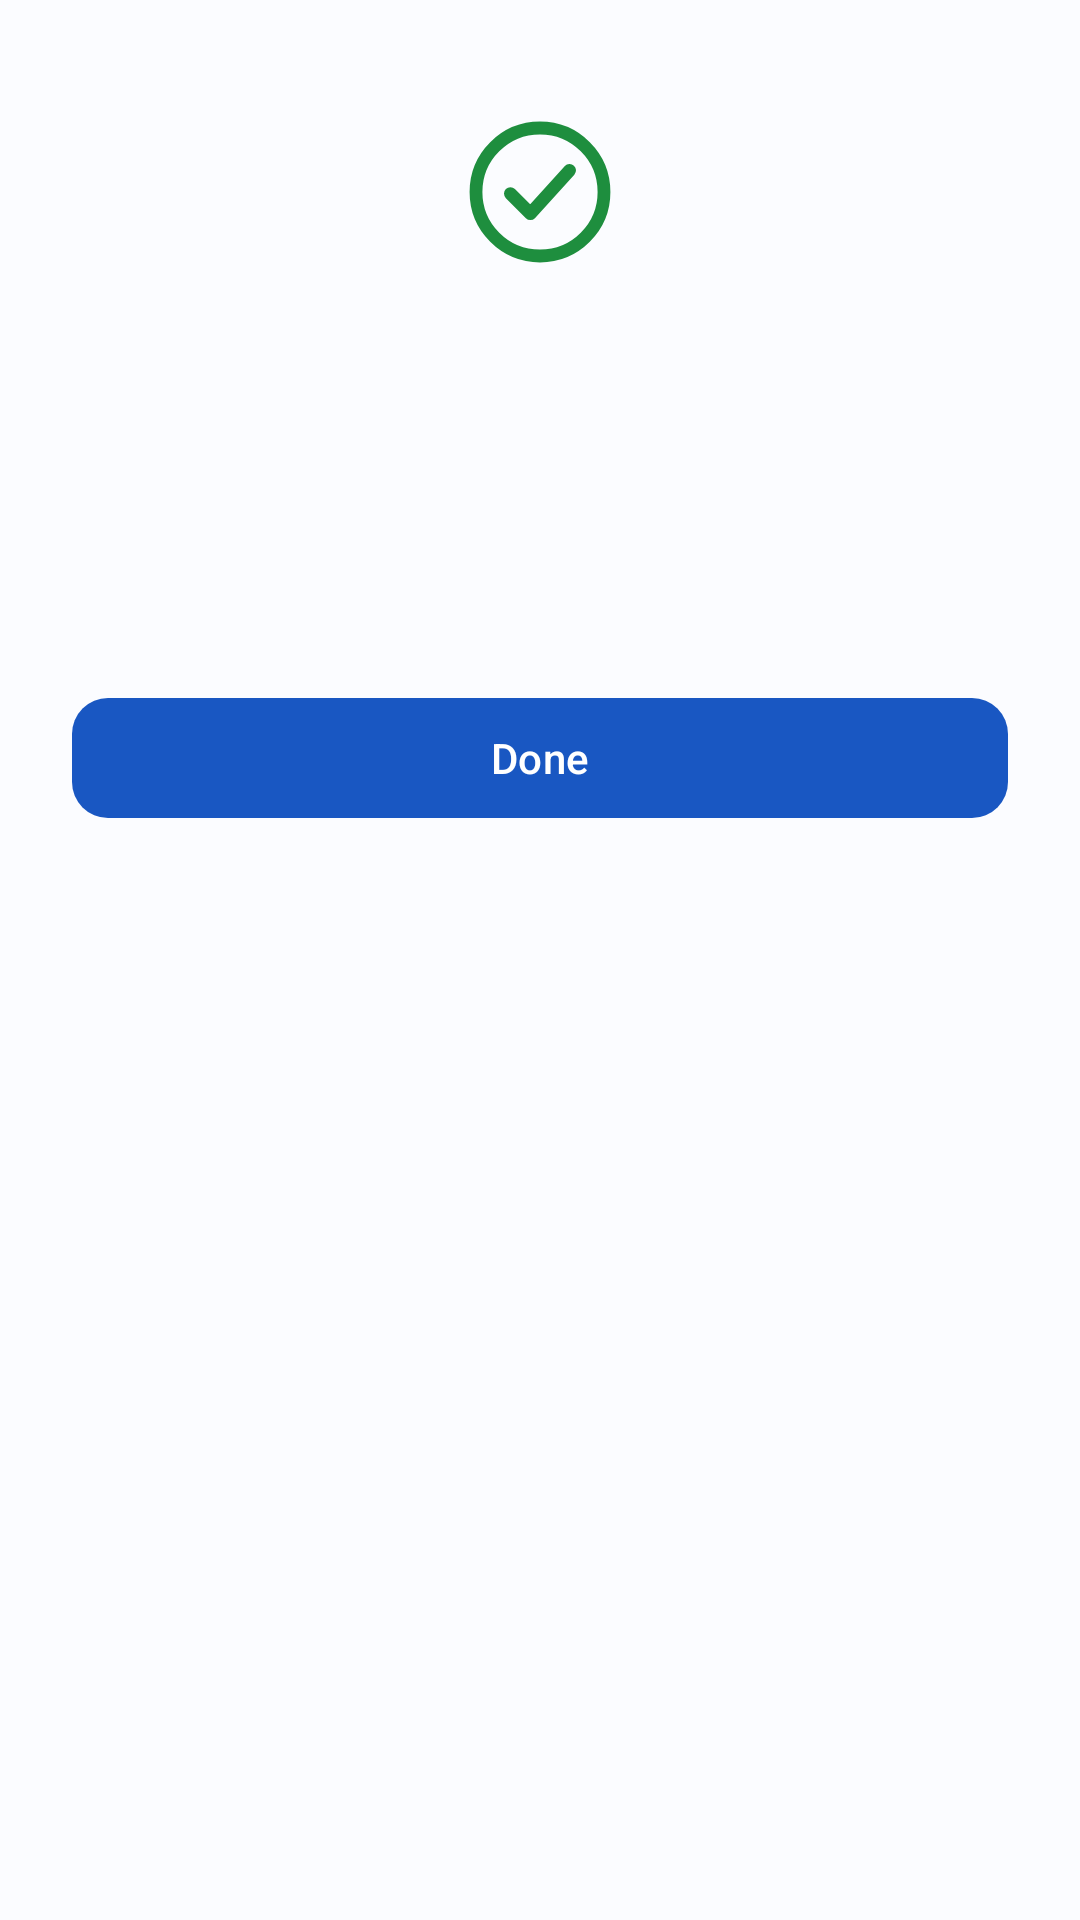

Screen size 1080px x 1920px. Icon name, then its center in pixels as point (x, y):
check circle: point (540, 192)
